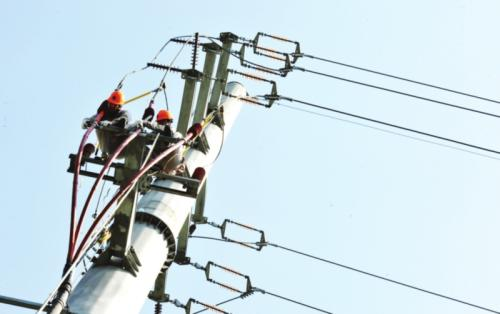hard-hat: (108, 90, 124, 105), (156, 108, 173, 121)
person: (81, 89, 129, 160), (141, 109, 184, 173)
